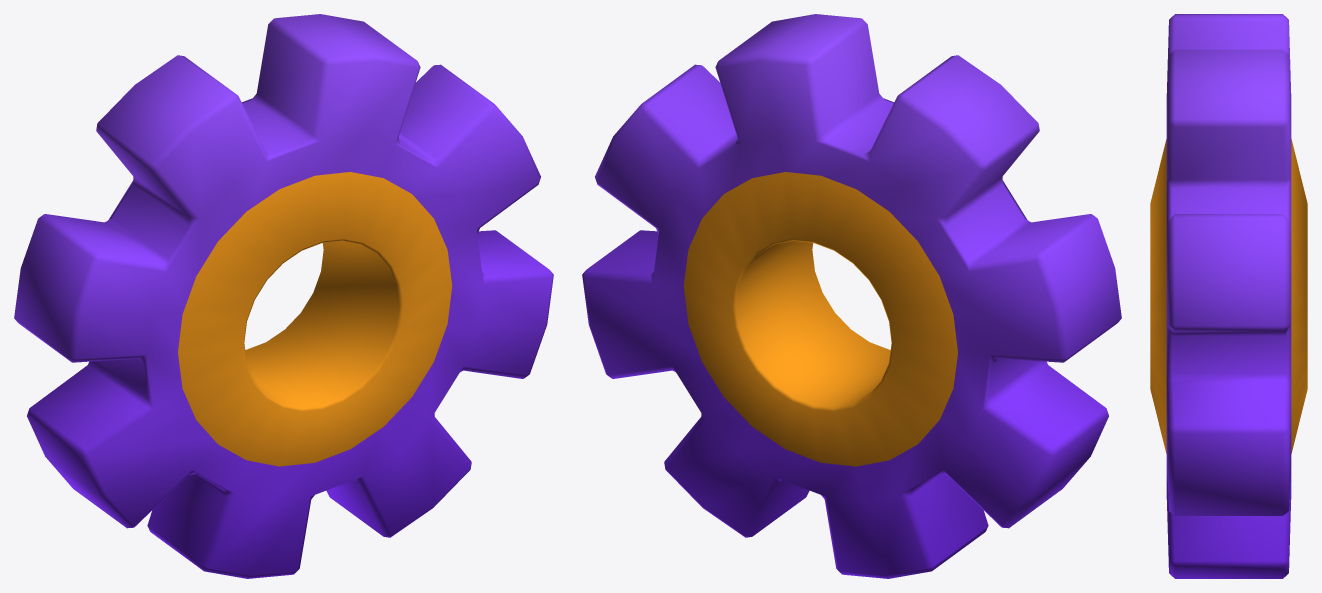
The model's file is Collectable_Gear_01.fbx.
3 views of the same model, side by side, from view 1: azimuth 30°, elevation 25°; view 2: azimuth 150°, elevation 25°; view 3: azimuth 270°, elevation 25° (orthographic).
Parts seen in each view (by area): view 1: Collectable_Gear_01; view 2: Collectable_Gear_01; view 3: Collectable_Gear_01.
Part boxes in pixels (bbox=[...]): Collectable_Gear_01: bbox=[14, 14, 553, 578]; Collectable_Gear_01: bbox=[582, 14, 1121, 578]; Collectable_Gear_01: bbox=[1150, 14, 1307, 578].
Size of the model in its own units: 79.41 by 79.41 by 22.17.
1 material, 1 textured.
